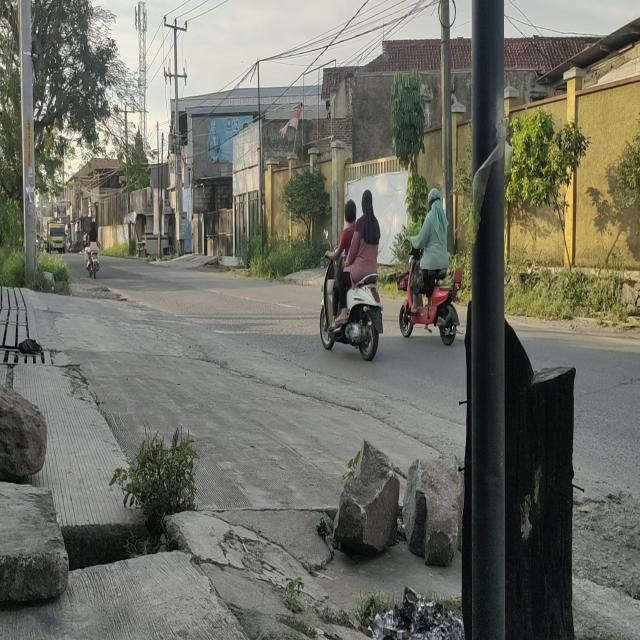no-helmet: (344, 200, 356, 223), (362, 190, 373, 215)
